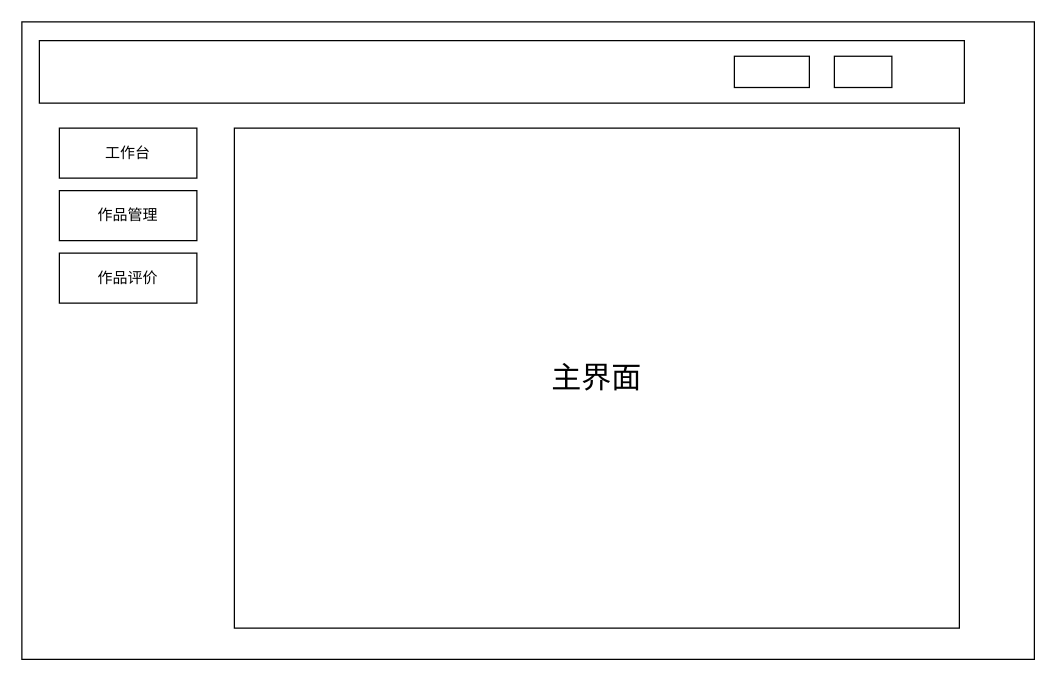
This 1056x681 diagram has some shape labels left out. Here are the shapes that lost their labels. From the top down, the centre of each, then its label:
the point at 771,71: 退出
the point at 862,71: 控制台
